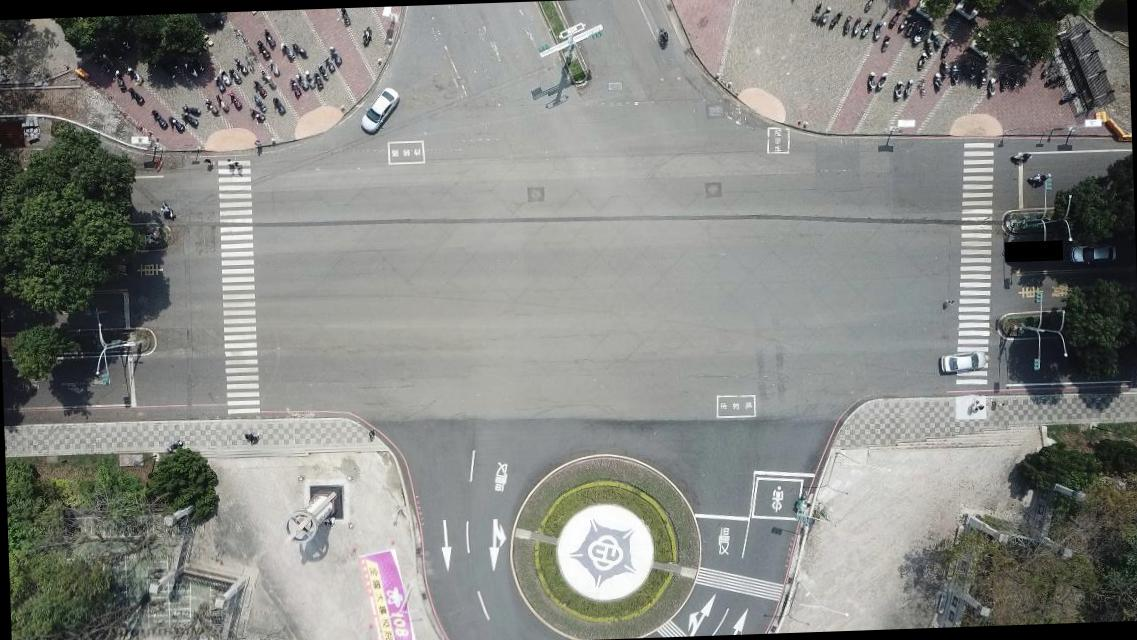vehicle: (358, 86, 402, 137), (936, 351, 990, 376), (1068, 242, 1120, 264)
